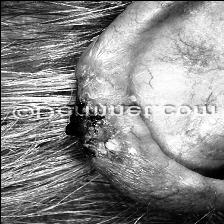Potentially Malignant Skin Tumors: (62, 117, 121, 162)
